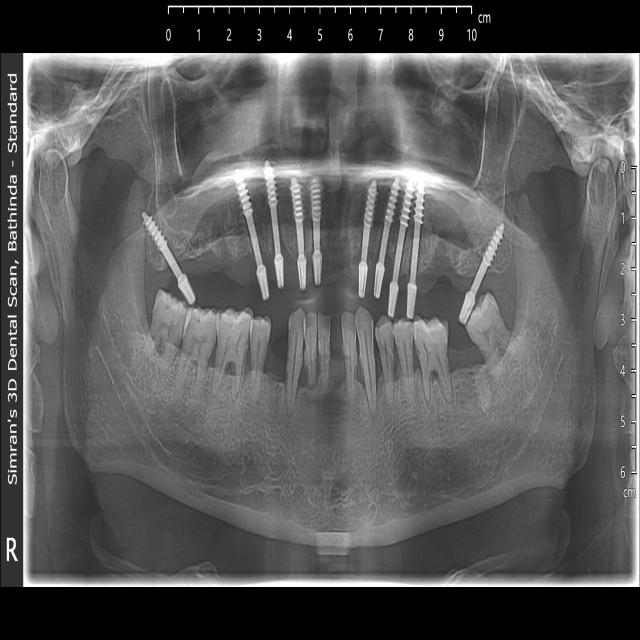Implant: (143, 208, 196, 307), (458, 219, 506, 325), (230, 175, 270, 301), (386, 183, 415, 316), (373, 175, 403, 300), (261, 160, 285, 287), (406, 180, 426, 320), (358, 180, 377, 298), (292, 180, 308, 291), (310, 180, 323, 289)
Missing teeth: (420, 228, 463, 306), (194, 228, 245, 285), (326, 222, 354, 287)
